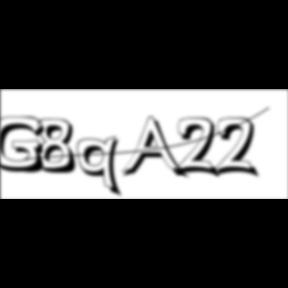2: (174, 117, 224, 181), (213, 117, 263, 181)
8: (38, 117, 83, 176)
A: (121, 116, 190, 182)
G: (0, 116, 52, 176)
q: (76, 135, 125, 200)
